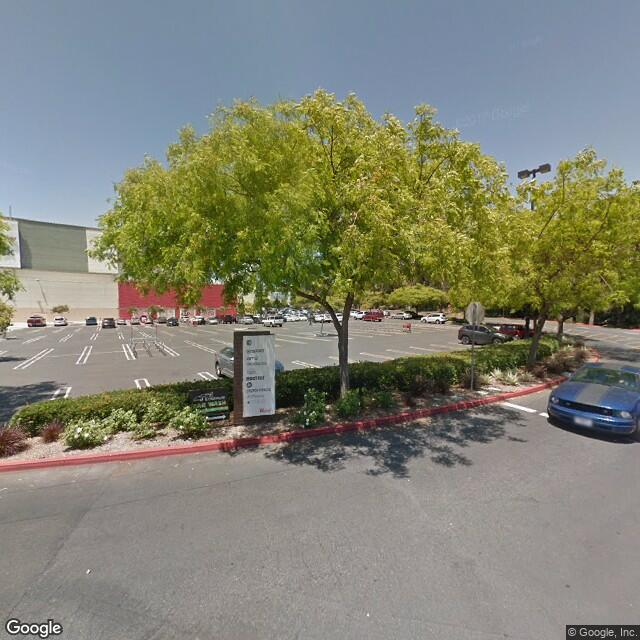litter: (85, 567, 92, 576)
